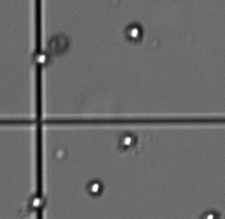Dead Cell: (47, 31, 70, 54)
Living Cell: (124, 21, 143, 42), (120, 131, 138, 149), (86, 179, 104, 196), (28, 193, 46, 210), (32, 50, 49, 67)
